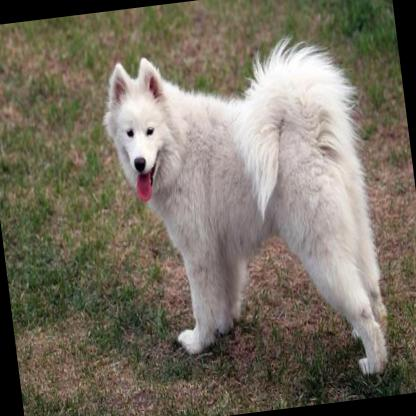Samoyed: (92, 24, 395, 400)
